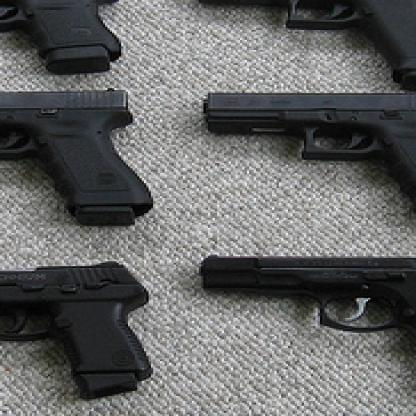gun: (190, 246, 414, 413), (194, 88, 414, 235), (0, 250, 165, 404), (0, 83, 160, 233), (185, 0, 414, 97), (0, 0, 156, 84)
